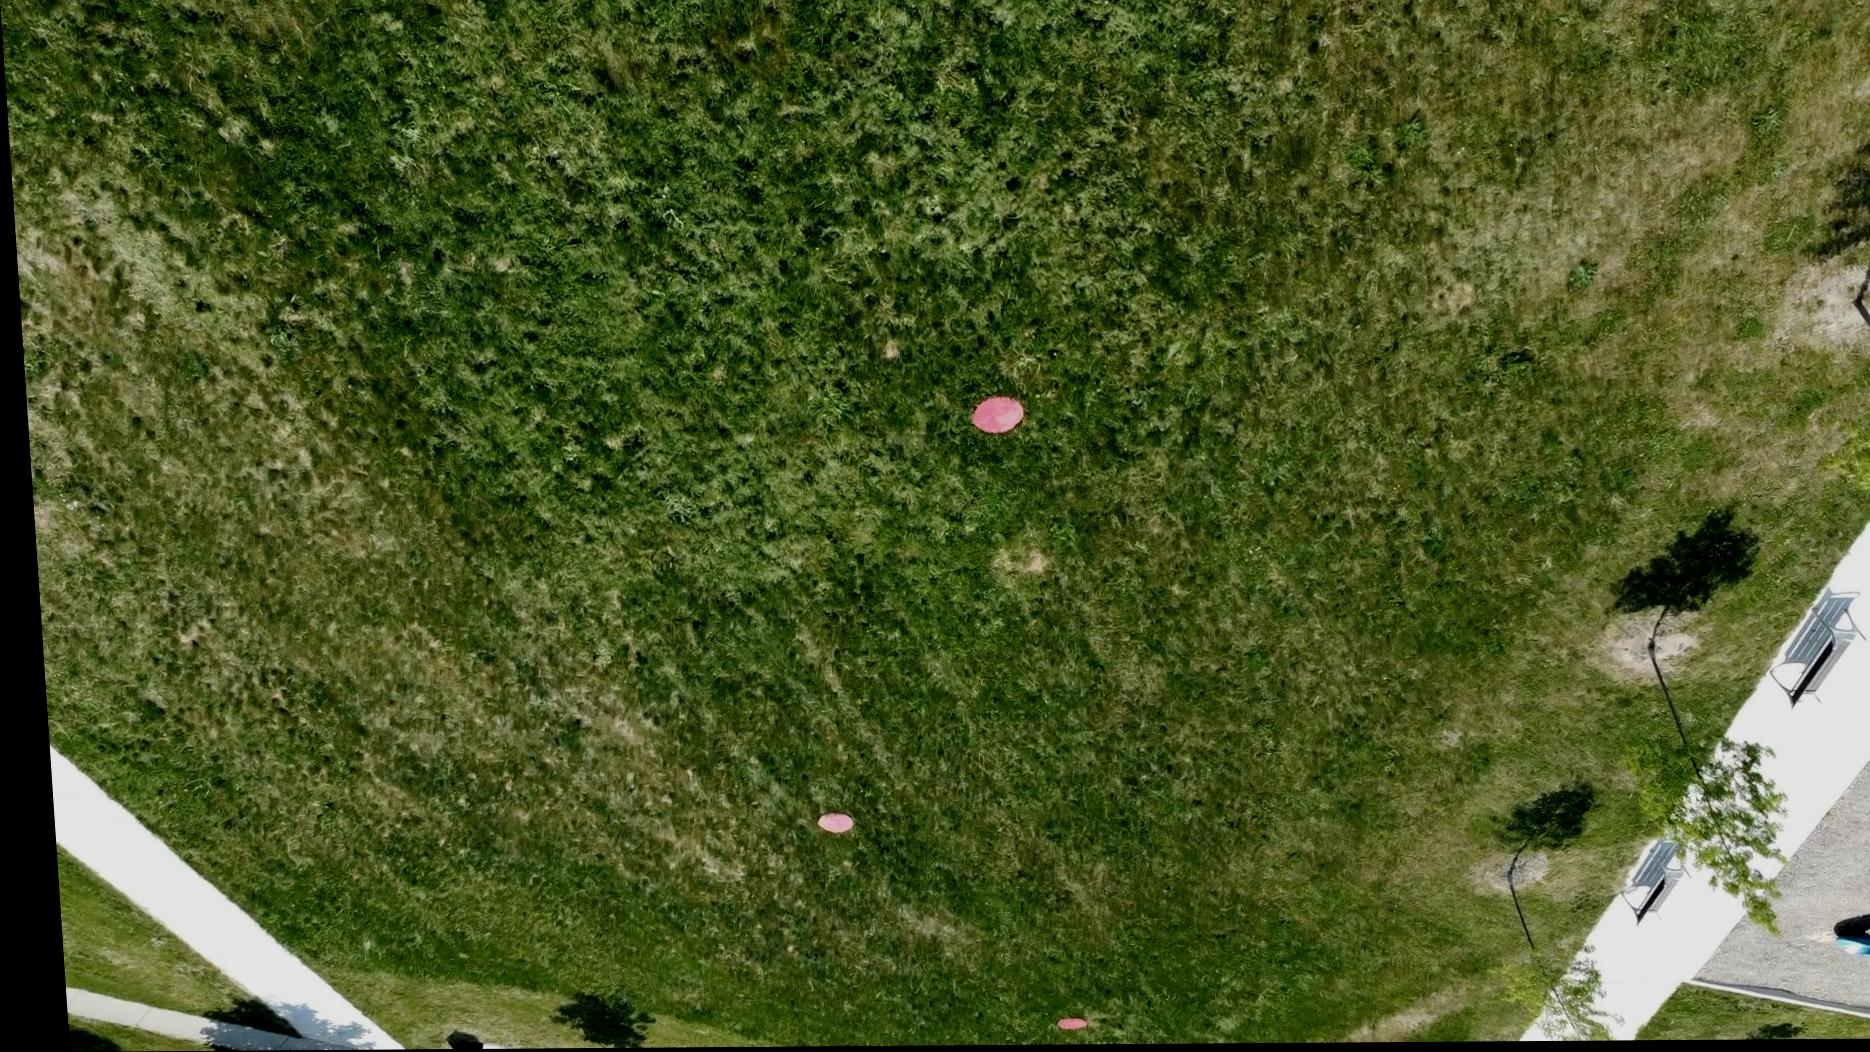Red: (965, 396, 1021, 438), (804, 812, 845, 836), (1040, 1017, 1075, 1033)
